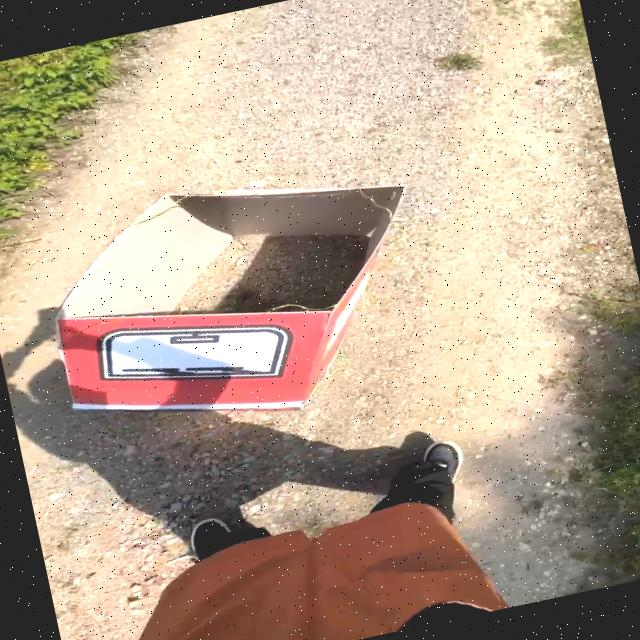red_car: (0, 112, 460, 482)
